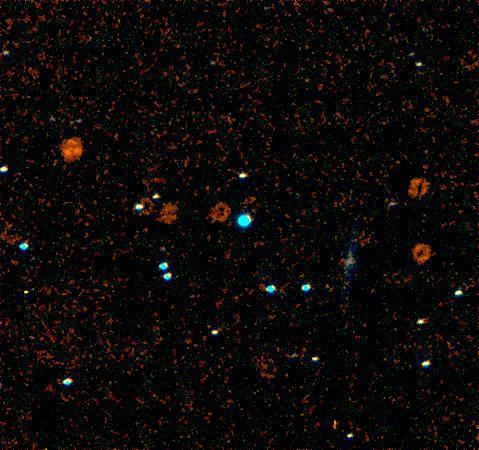star: (321, 408, 351, 438)
